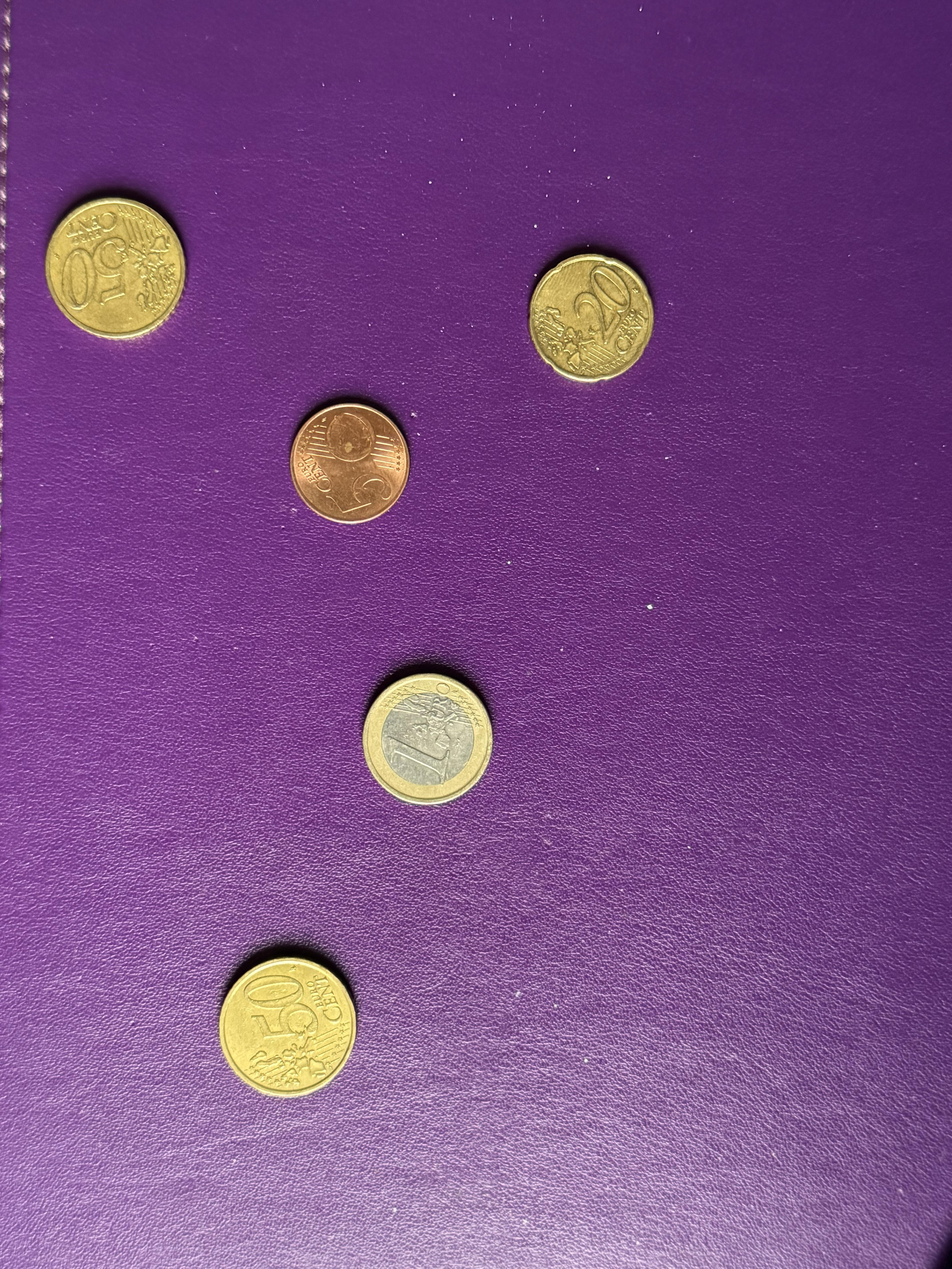1 euro: (363, 672, 493, 806)
20 cent: (529, 254, 654, 383)
5 cent: (290, 401, 410, 525)
50 cent: (214, 947, 363, 1104), (45, 197, 186, 340)
